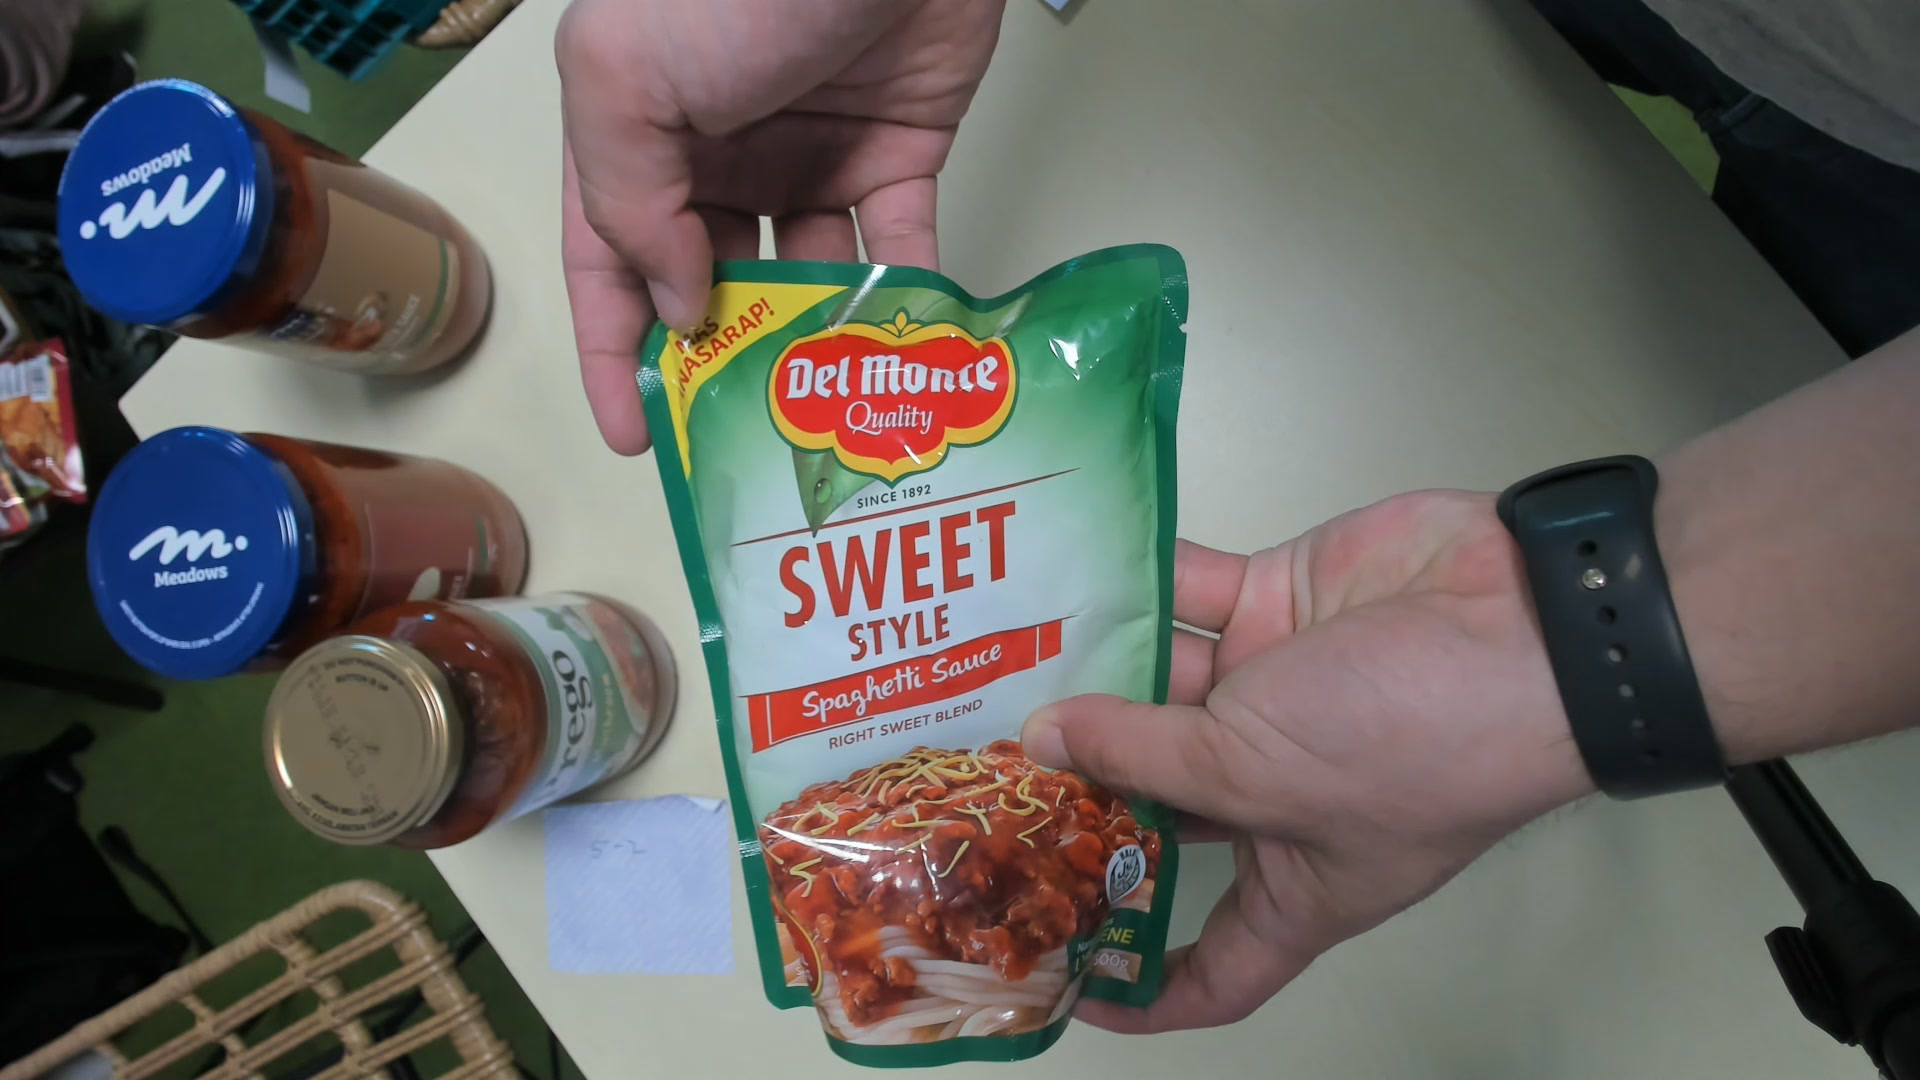PastaSauce_500-599g_Halal_NonHealthy: (666, 249, 1174, 1064)
